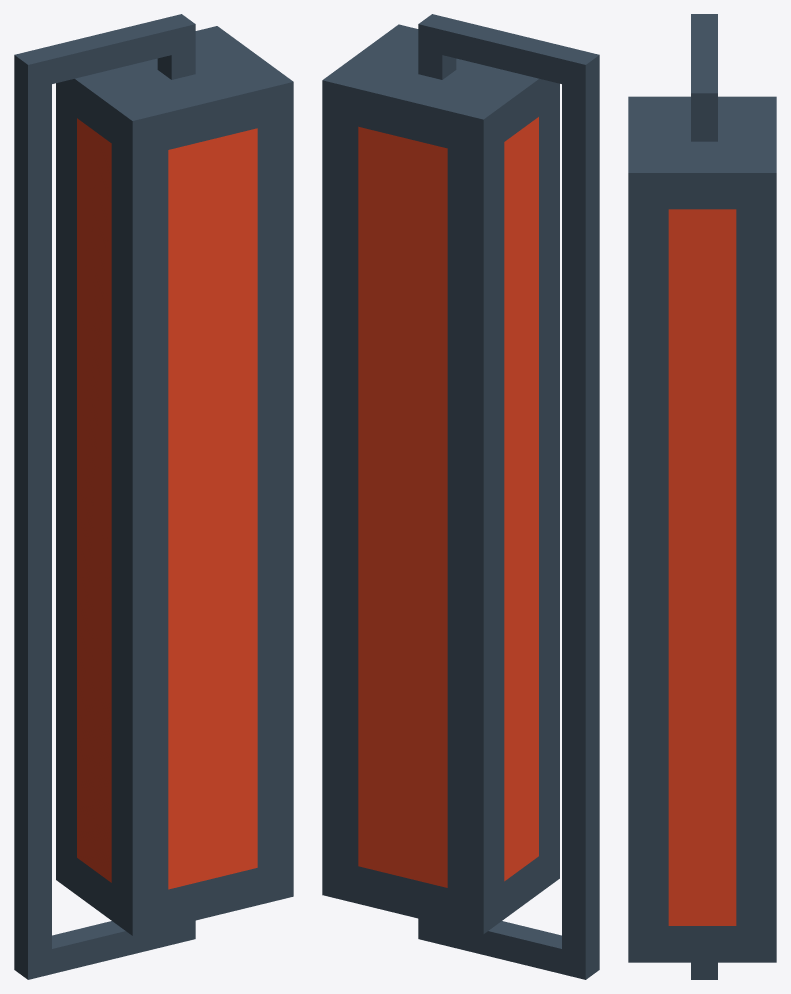
Rendered from Neon_light_2.FBX.
The picture shows the model from 3 angles, left to right: view 1: azimuth 30°, elevation 25°; view 2: azimuth 150°, elevation 25°; view 3: azimuth 270°, elevation 25°; orthographic projection. The views are drawn at different scales.
Parts seen in each view (by area): view 1: Neon_light_2; view 2: Neon_light_2; view 3: Neon_light_2.
Boxes of the visible parts, bbox=[...] form: Neon_light_2: bbox=[14, 14, 293, 979]; Neon_light_2: bbox=[322, 14, 599, 979]; Neon_light_2: bbox=[628, 14, 776, 979].
Size of the model in its own units: 9.79 by 36.71 by 5.55.
Materials: 1 (1 with a texture image).
